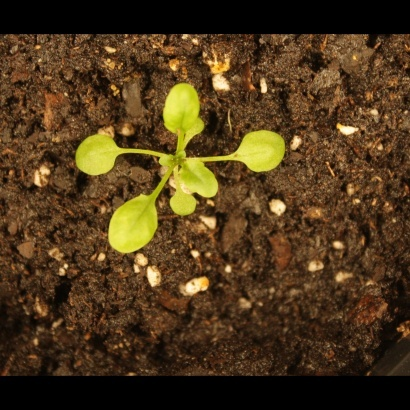leaf: (106, 191, 163, 262), (232, 126, 296, 176), (67, 129, 125, 178), (160, 80, 204, 133), (179, 153, 220, 202), (169, 190, 203, 220), (154, 150, 179, 173), (185, 116, 209, 139)
